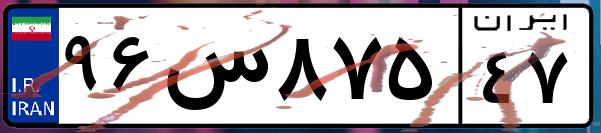4: (475, 38, 525, 113)
5: (385, 28, 445, 110)
6: (110, 28, 158, 98)
7: (330, 28, 385, 110), (525, 38, 570, 115)
8: (270, 28, 330, 110)
9: (57, 26, 110, 100)
س: (158, 20, 270, 120)
